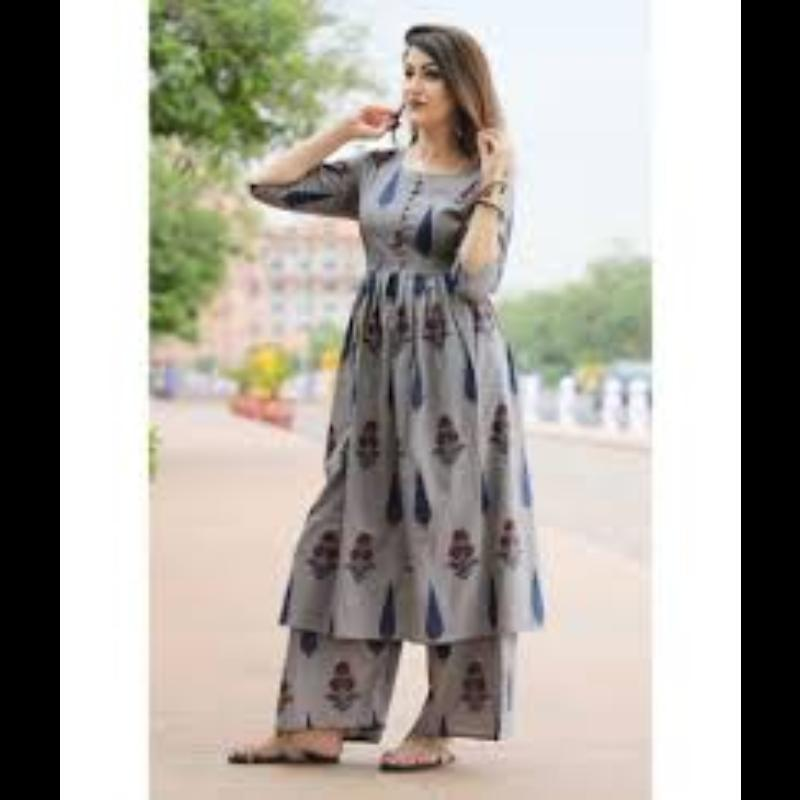Churidaar: (228, 134, 610, 744)
